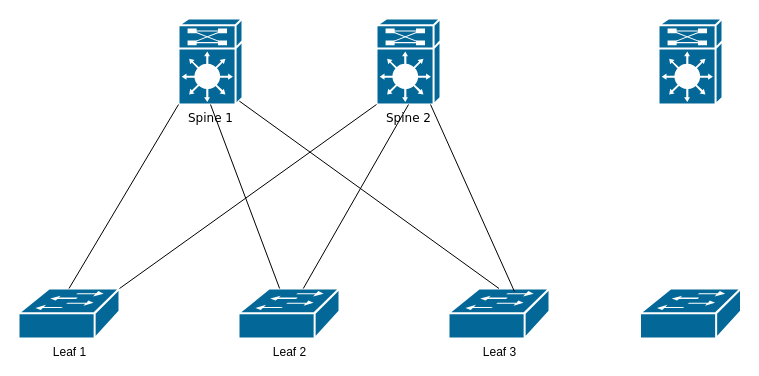
The diagram is 759 pixels wide and 376 high, and some of its shapes have lost their labels. The box of each missing label's shape, as (x1, y1, x2, y2) in pixels:
Leaf 4: (638, 287, 742, 339)
Spine 3: (657, 17, 723, 105)
